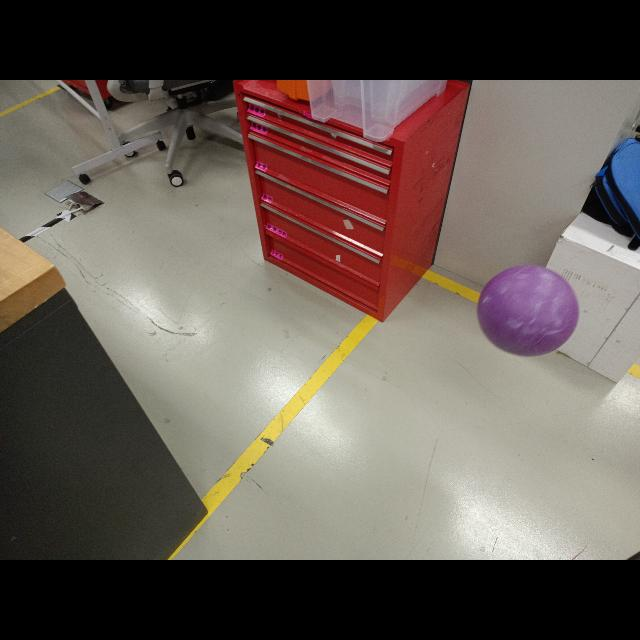P: (477, 265, 579, 357)
